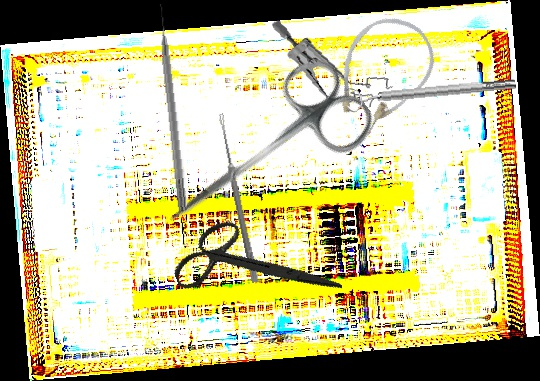Cannula: (314, 2, 449, 148)
Fixation Ring: (345, 71, 517, 114)
Iris Scissors: (141, 46, 384, 264), (163, 190, 343, 343)
Pusher: (156, 2, 190, 212)
Speculum: (262, 18, 401, 112)
Surgical Spoon: (216, 113, 260, 283)
